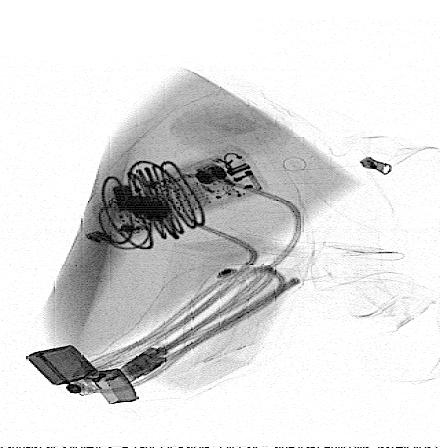Lighter: (26, 344, 138, 405)
